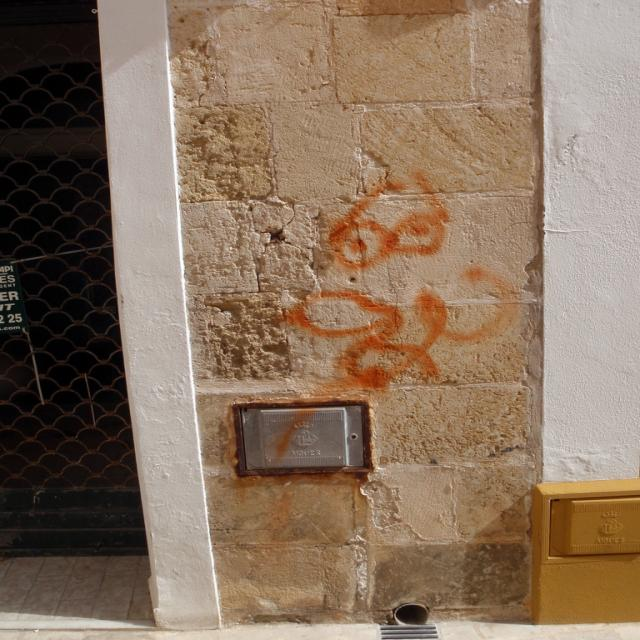Box: (530, 477, 640, 601)
